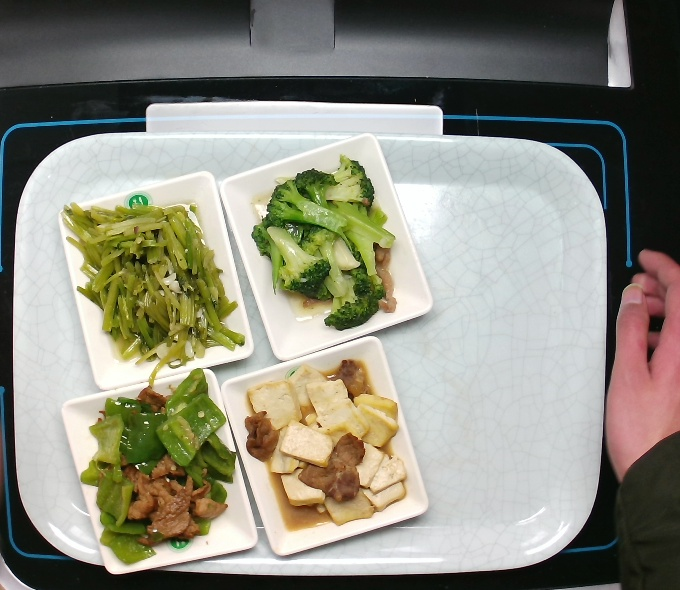wcq-DouFuRouPian: (236, 355, 417, 530)
wcq-QinCai: (63, 168, 244, 394)
wcq-QingJiaoChaoRou: (99, 379, 229, 565)
wcq-XiLanHua: (234, 151, 412, 335)
